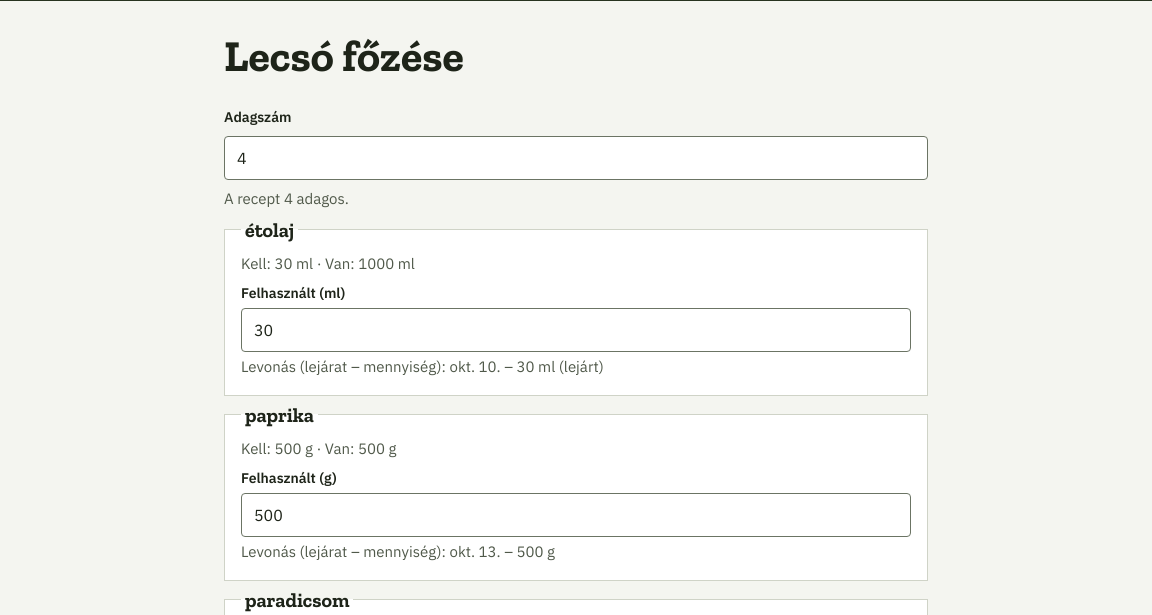
Test: cooking › loads the preview again for another number of servings
Replace the text in the number field labelled "Adagszám" with "6" at (576, 158), box [224,136,928,180]
(page scrolled)
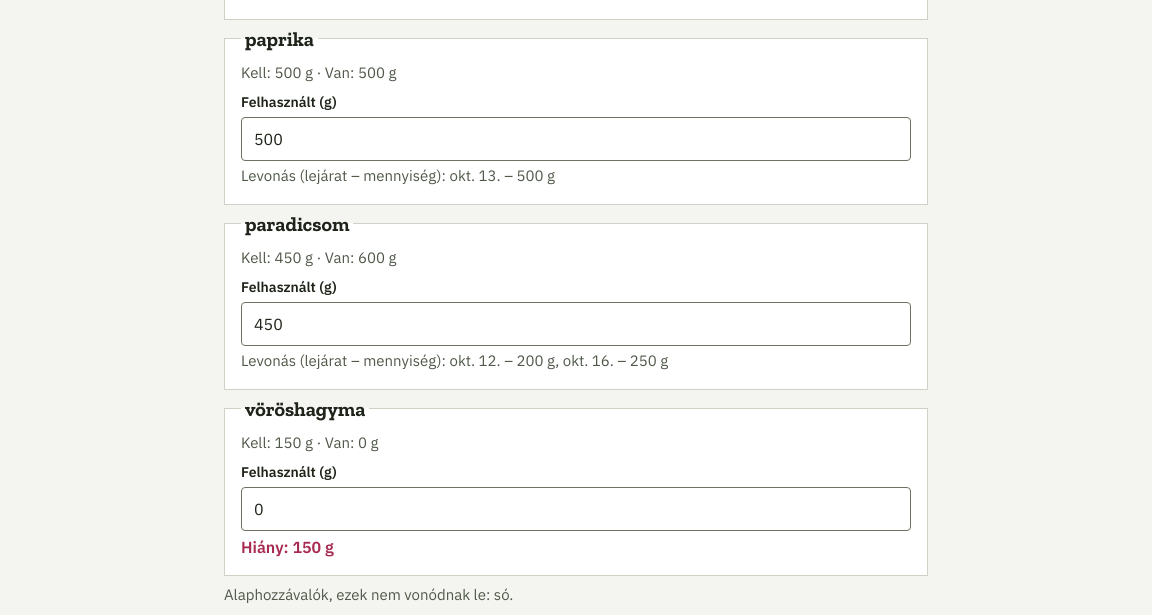
Now the element "paradicsom" shows "Kell: 450 g", box [224,213,928,390]
